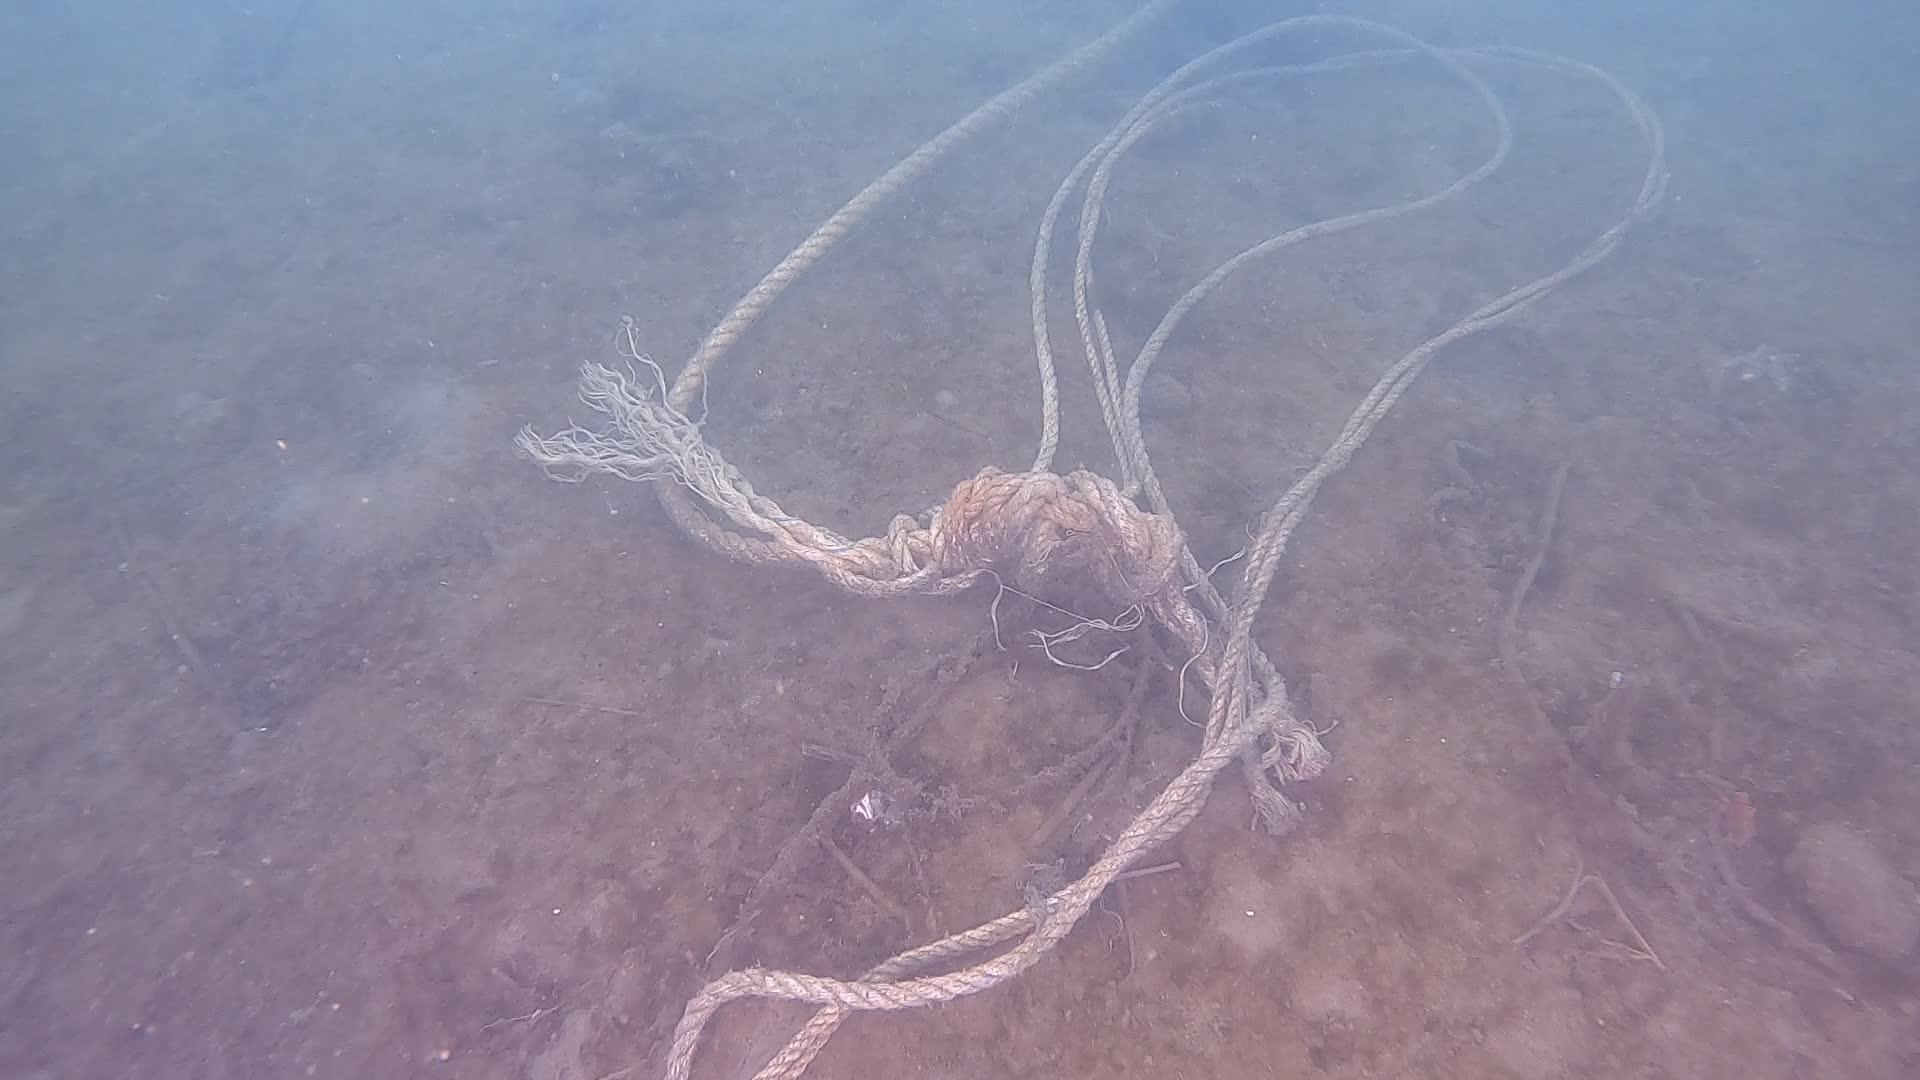bundle of ropes: (641, 0, 1677, 1080)
